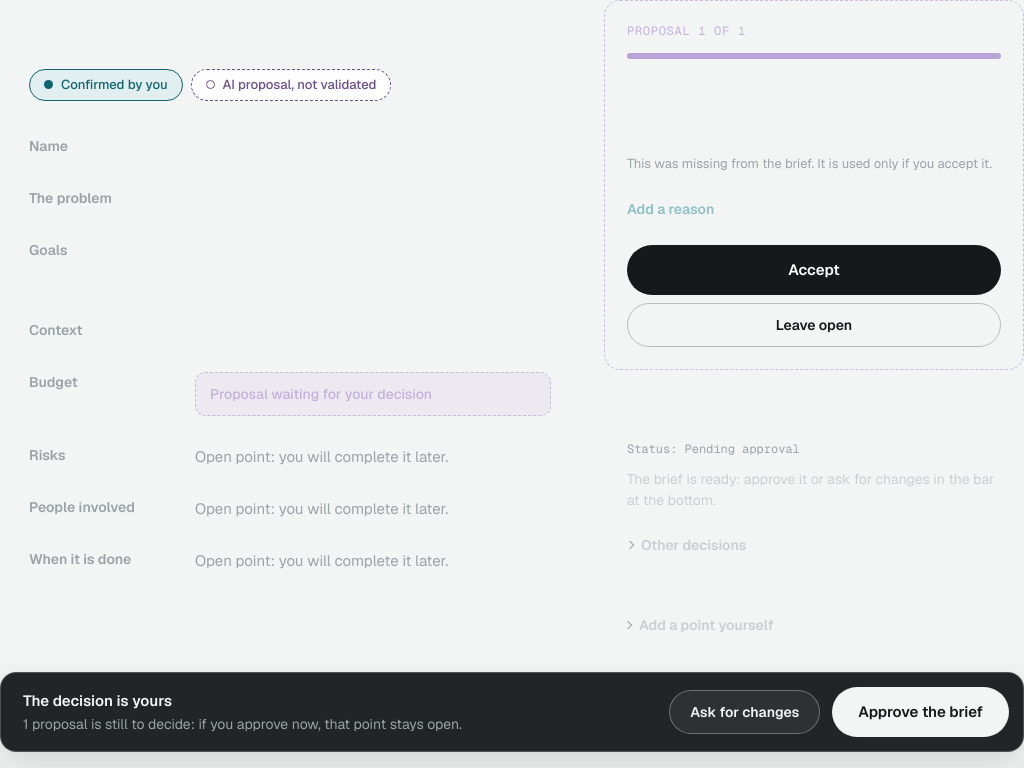
ProjectClarificationFlow brief and decision › puts the approval in the decision bar and keeps a change request that failed
Check: the element that starts with "The decision is yours" is shown, box x1=0 y1=672 x2=1023 y2=752
Check: the button with test id "decision-primary" reads "Approve the brief", box x1=832 y1=687 x2=1009 y2=737
Click the button with test id "decision-secondary".
click(745, 712)  # box x1=669 y1=690 x2=820 y2=734
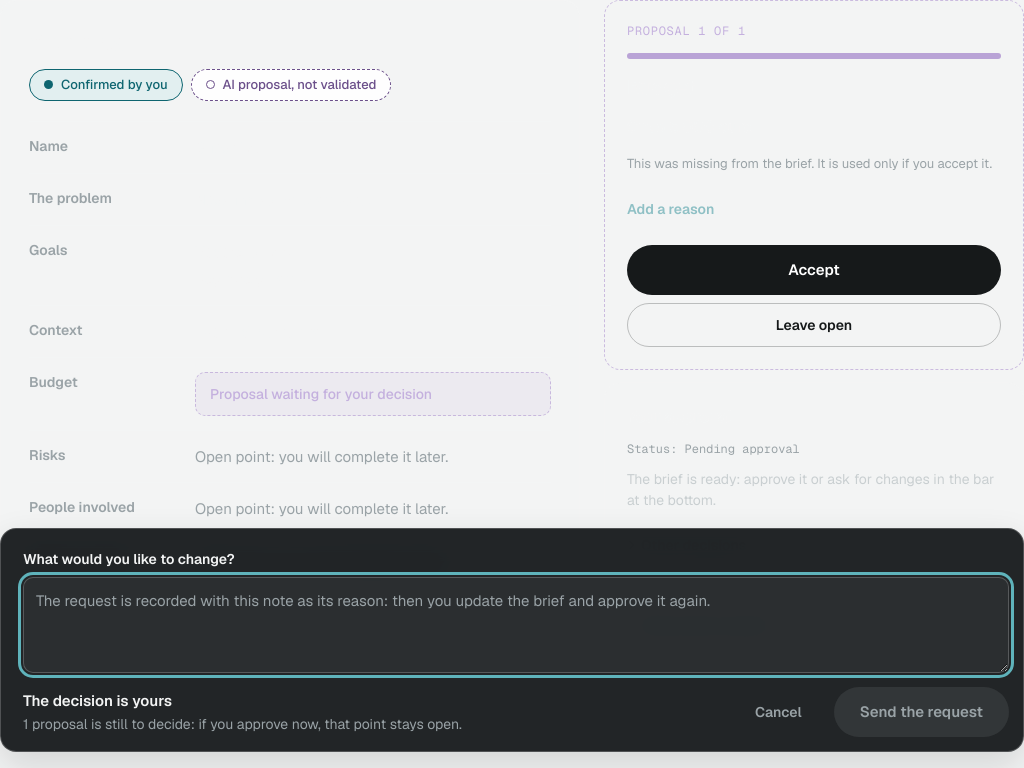
Replace the text in the text box labelled "What would you like to change?" with "Aggiungi il budget." at (516, 625), box x1=23 y1=577 x2=1009 y2=673
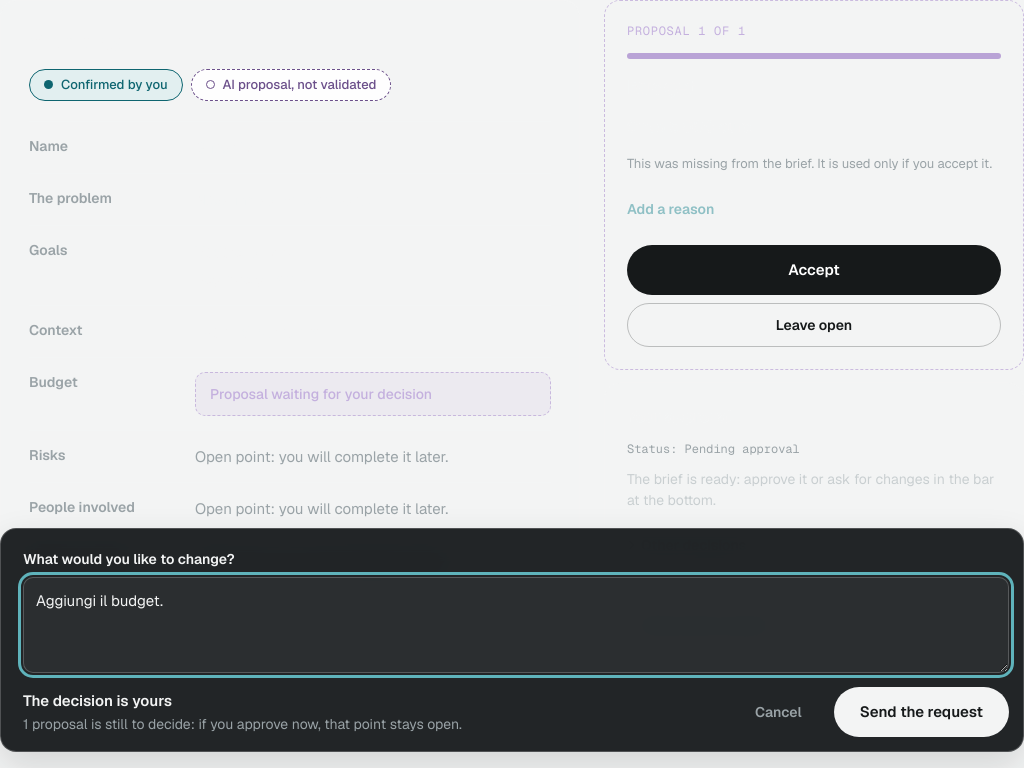
Click the button with test id "decision-send".
click(921, 712)  # box x1=834 y1=687 x2=1009 y2=737
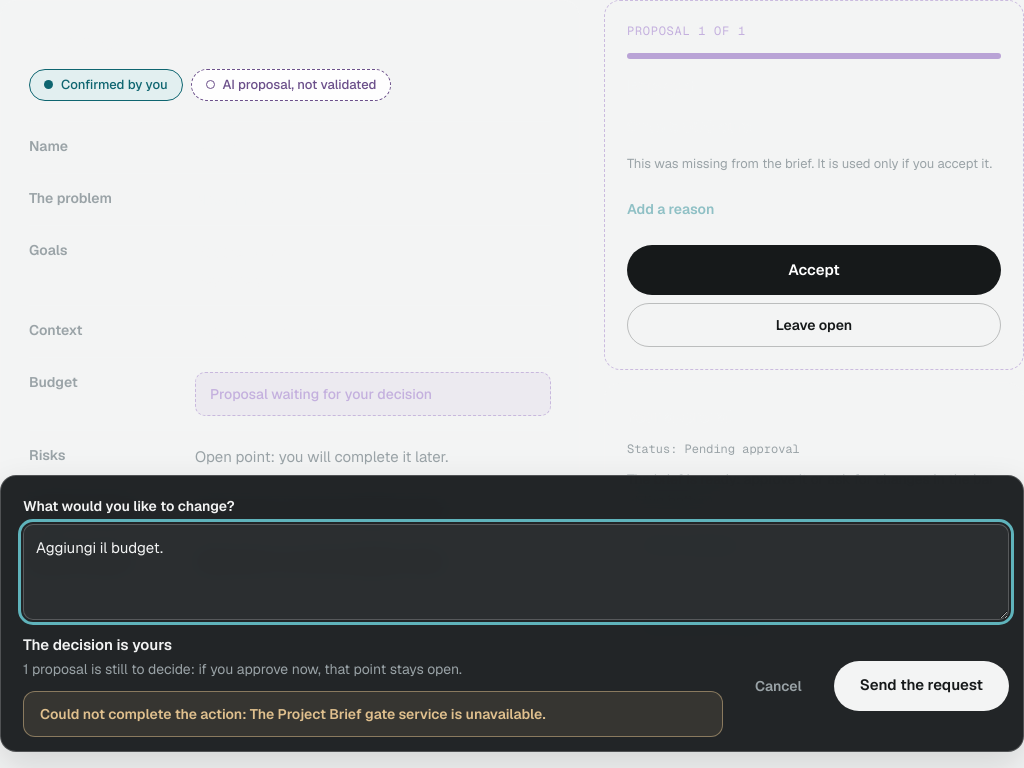
Check: the number of messages is 1, box x1=23 y1=691 x2=723 y2=737
Check: the message "Could not complete the action: The Project Brief gate service is unavailable." is shown, box x1=23 y1=691 x2=723 y2=737
Click the button with test id "decision-send".
click(921, 686)  # box x1=834 y1=661 x2=1009 y2=711
(page scrolled)
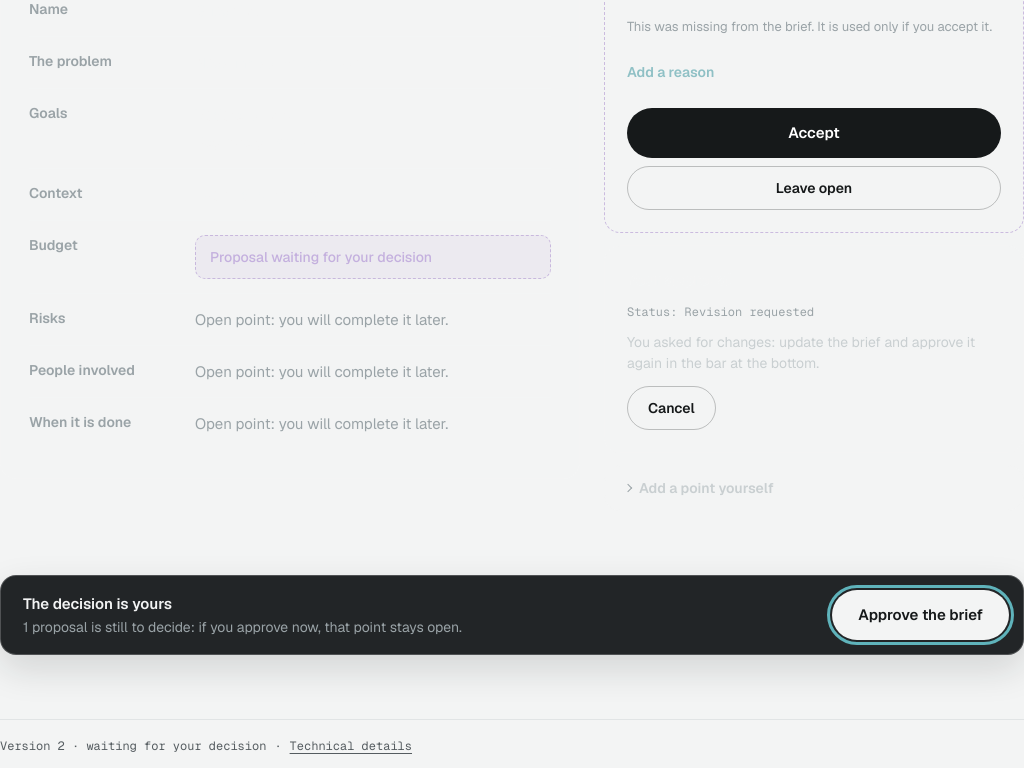
Check: the button with test id "decision-primary" reads "Approve the brief", box x1=832 y1=590 x2=1009 y2=640
Check: the element that starts with "Your approval" shows "You asked for changes: update the brief and approve it again in the bar at the bottom.", box x1=627 y1=333 x2=975 y2=372
